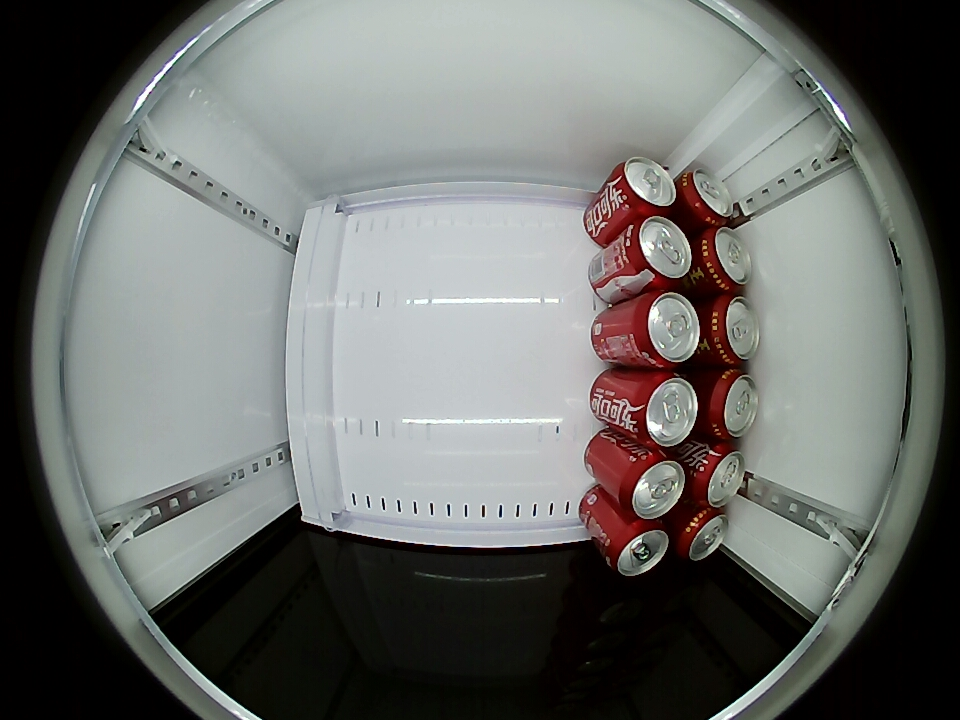kele: (631, 291, 701, 368), (631, 372, 700, 448), (625, 216, 692, 288), (618, 451, 687, 519), (611, 156, 678, 215), (604, 519, 671, 576), (692, 443, 747, 508)
wanglaoji-c: (706, 369, 760, 440), (707, 294, 761, 365), (698, 227, 752, 292), (679, 168, 735, 226), (675, 506, 729, 561)
